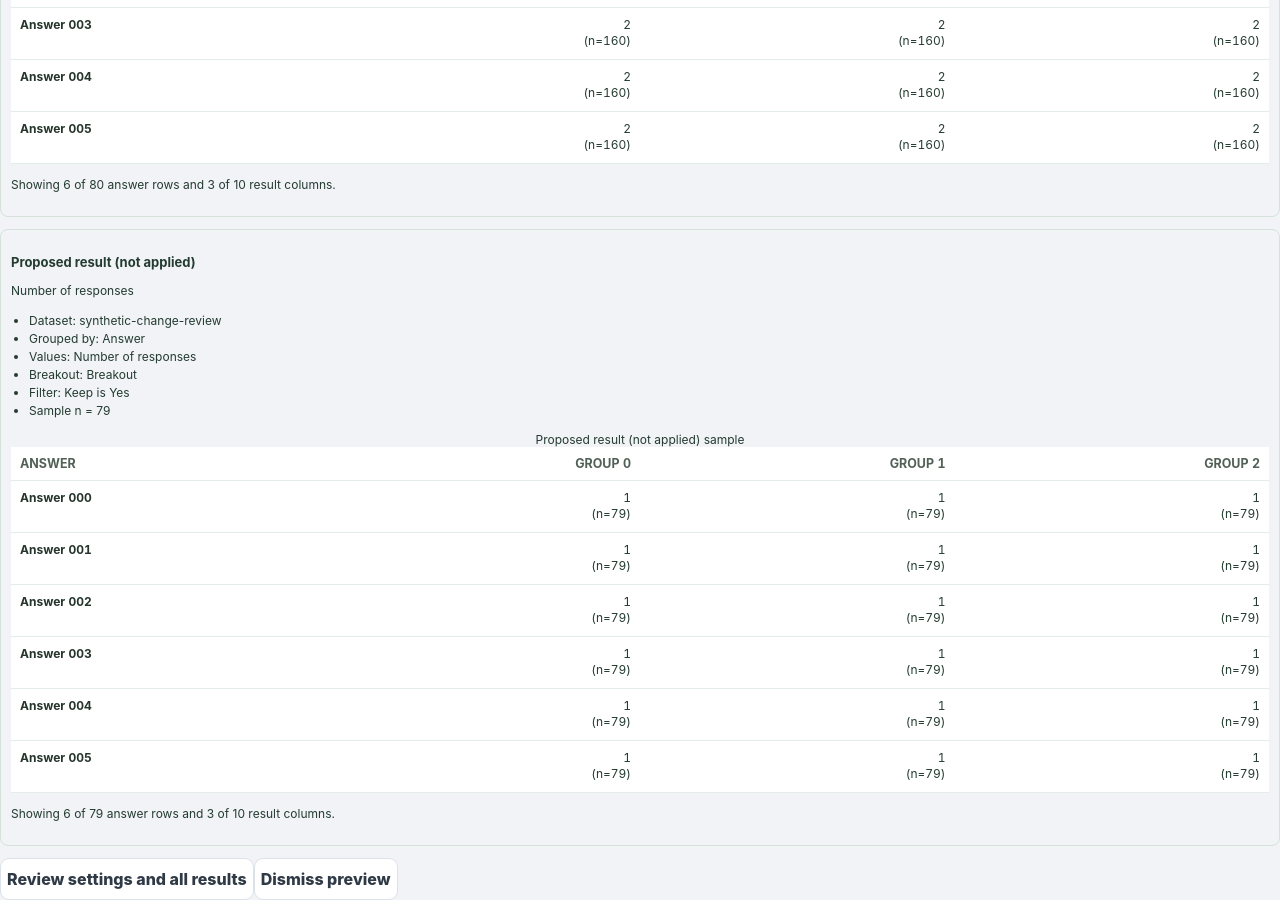
Test case: opens complete review on demand and keeps dismissal and keyboard scope
The width and height of the screenshot is (1280, 900).
Click the button "Review settings and all results" at (127, 879), box [0, 858, 254, 899]
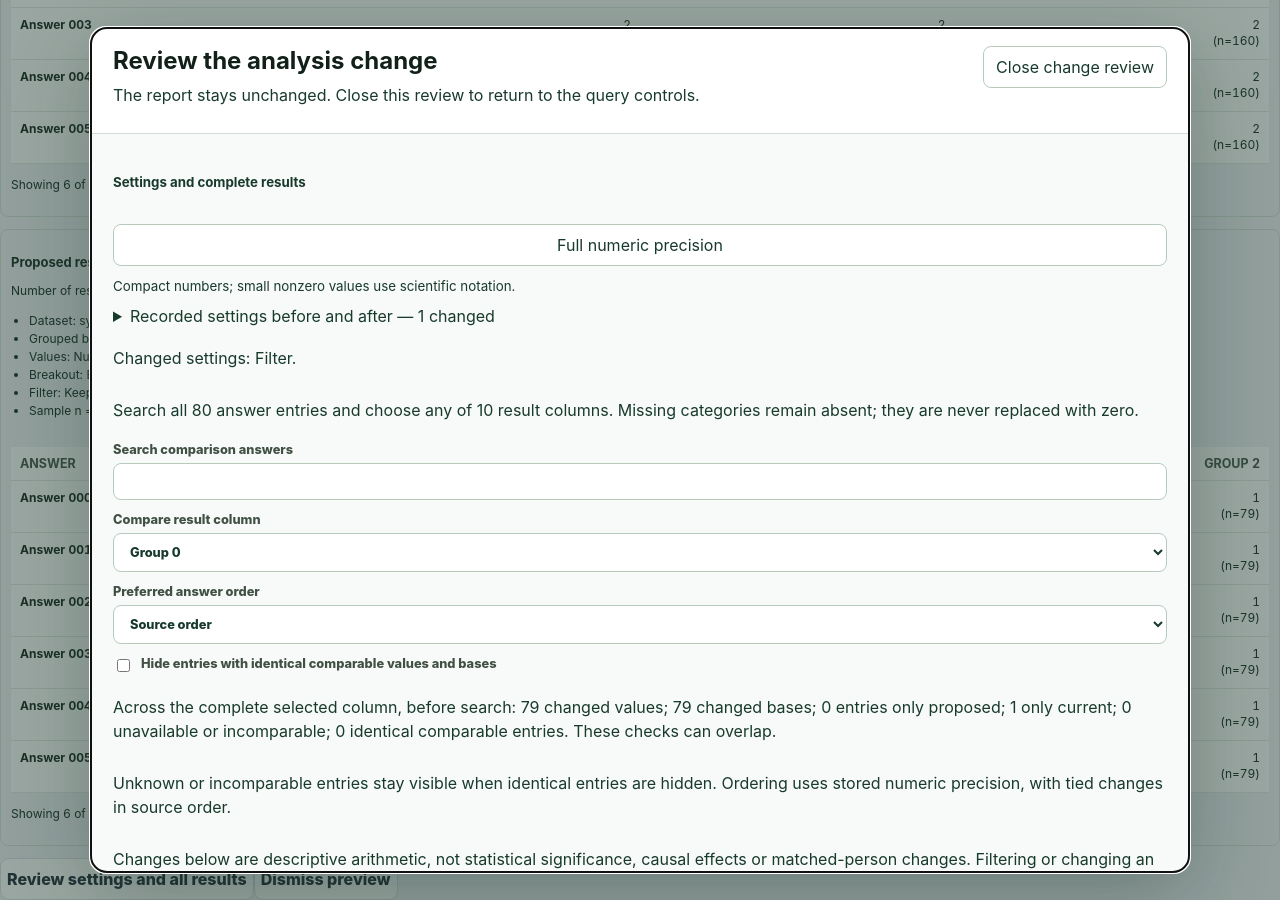
Press Escape in the search field labelled "Search comparison answers", box [113, 463, 1167, 500]
(page scrolled)
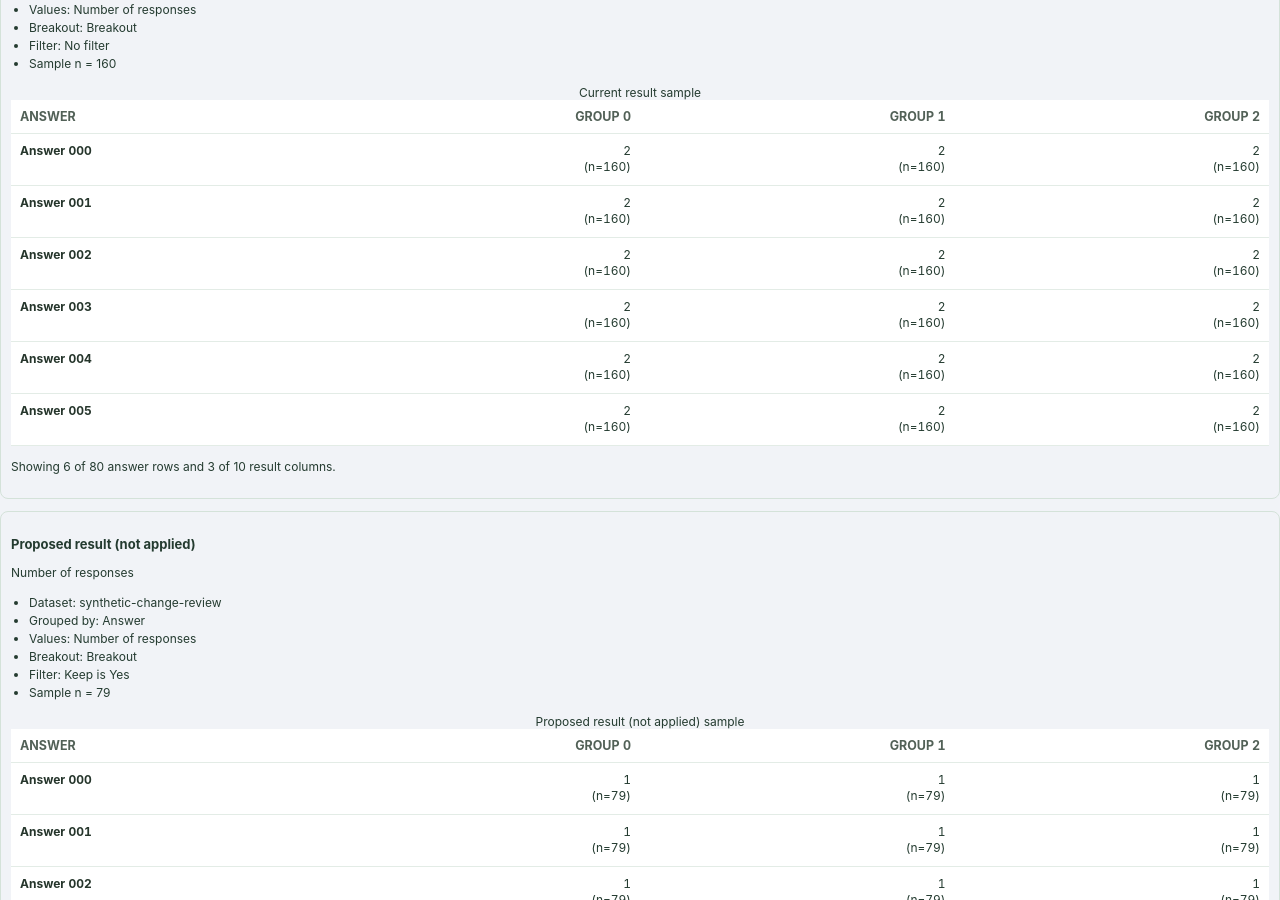
expect the dialog is gone: met
